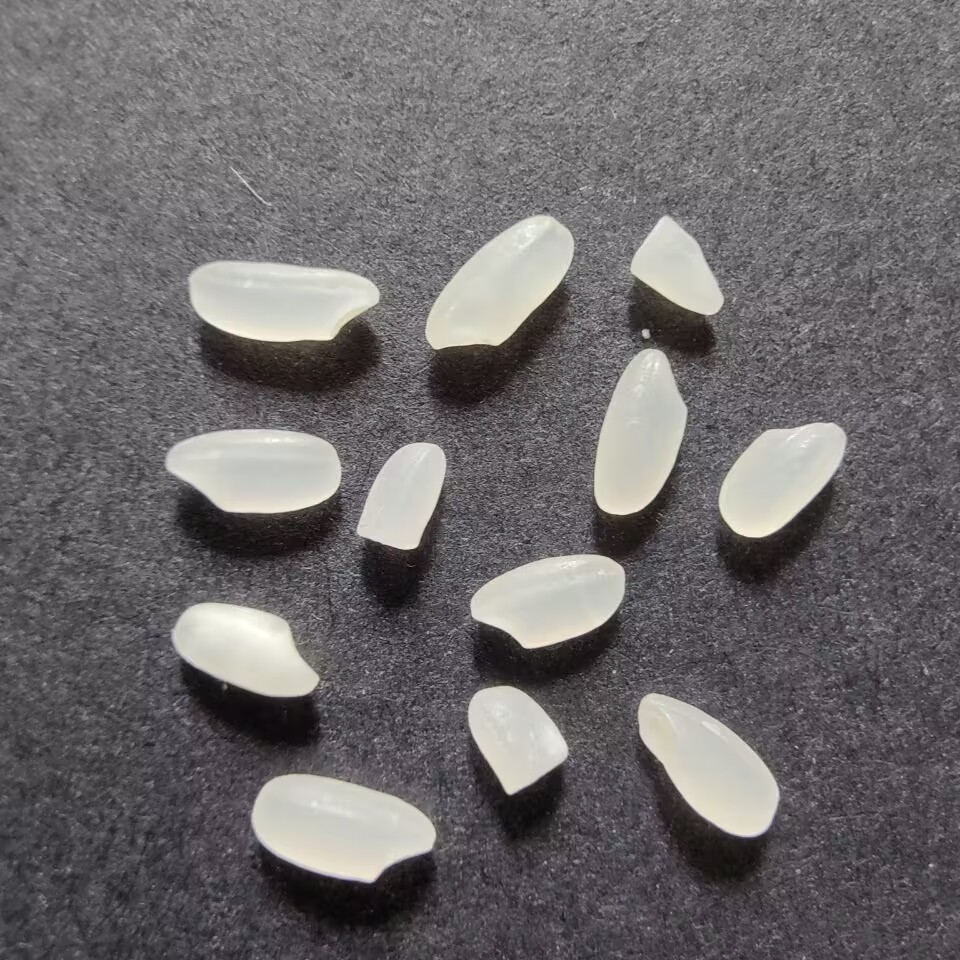broken: (458, 682, 575, 802), (347, 436, 450, 556), (624, 209, 730, 321)
rice: (635, 681, 785, 850), (416, 209, 581, 359), (245, 770, 441, 889), (581, 342, 696, 520), (151, 424, 352, 520), (178, 258, 380, 347), (713, 414, 852, 540), (460, 550, 630, 652), (165, 600, 328, 706)
